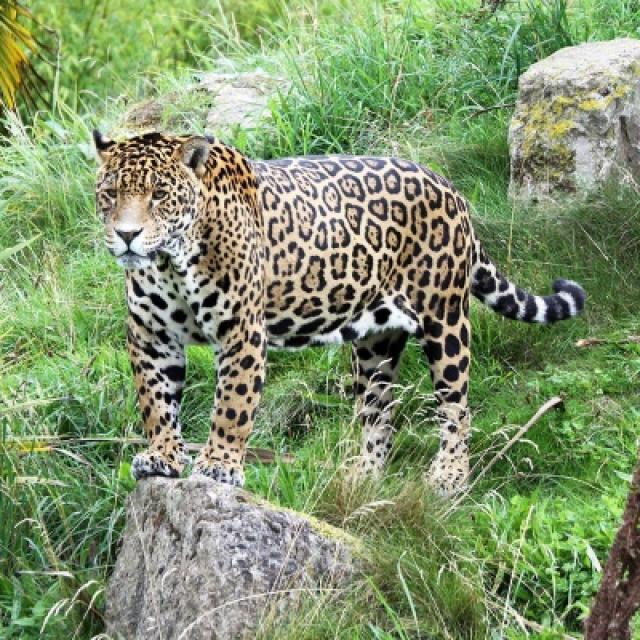Jaguar: (91, 130, 587, 498)
